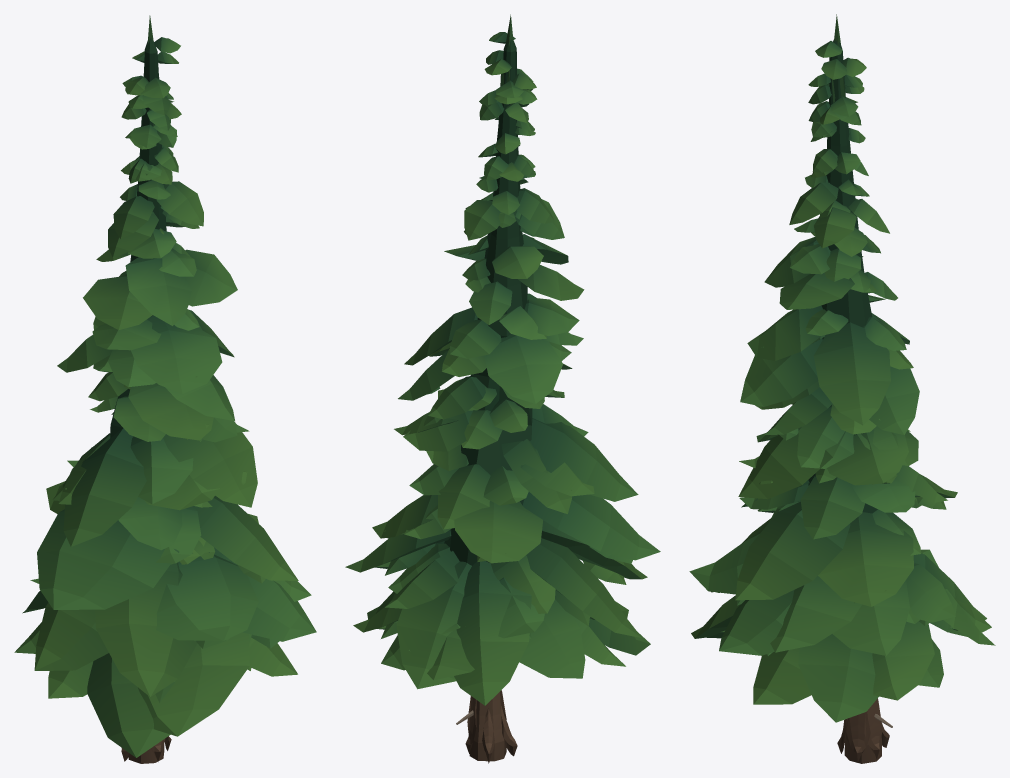
The model's file is spruce_edge_A.glb.
3 renders of one model, left to right at view 1: azimuth 30°, elevation 25°; view 2: azimuth 150°, elevation 25°; view 3: azimuth 270°, elevation 25°, orthographic. The views are drawn at different scales.
Parts seen in each view (by area): view 1: spruce_edge_A; view 2: spruce_edge_A; view 3: spruce_edge_A.
Boxes of the visible parts, left/top/right/bottom form: spruce_edge_A: left=14, top=15, right=316, bottom=763; spruce_edge_A: left=345, top=14, right=660, bottom=763; spruce_edge_A: left=689, top=14, right=995, bottom=763.
Bounding box in the file's own units: 4.67 × 12.3 × 4.63.
